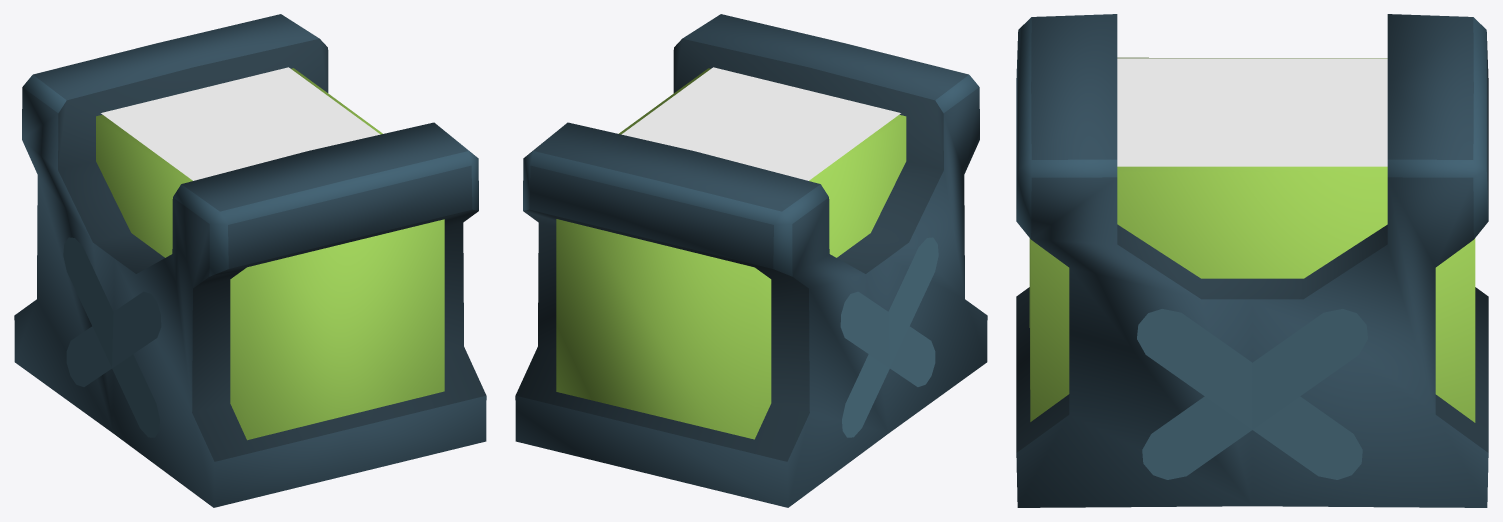
Rendered from Green_ammo.fbx.
The picture shows the model from 3 angles, left to right: view 1: azimuth 30°, elevation 25°; view 2: azimuth 150°, elevation 25°; view 3: azimuth 270°, elevation 25°; orthographic projection. The views are drawn at different scales.
Parts seen in each view (by area): view 1: Green_ammo; view 2: Green_ammo; view 3: Green_ammo.
Part boxes in pixels (x1,y1,x2,y2): Green_ammo: (14, 14, 486, 507); Green_ammo: (515, 14, 987, 507); Green_ammo: (1016, 14, 1488, 507).
Bounding box in the file's own units: 160 × 201 × 162.
